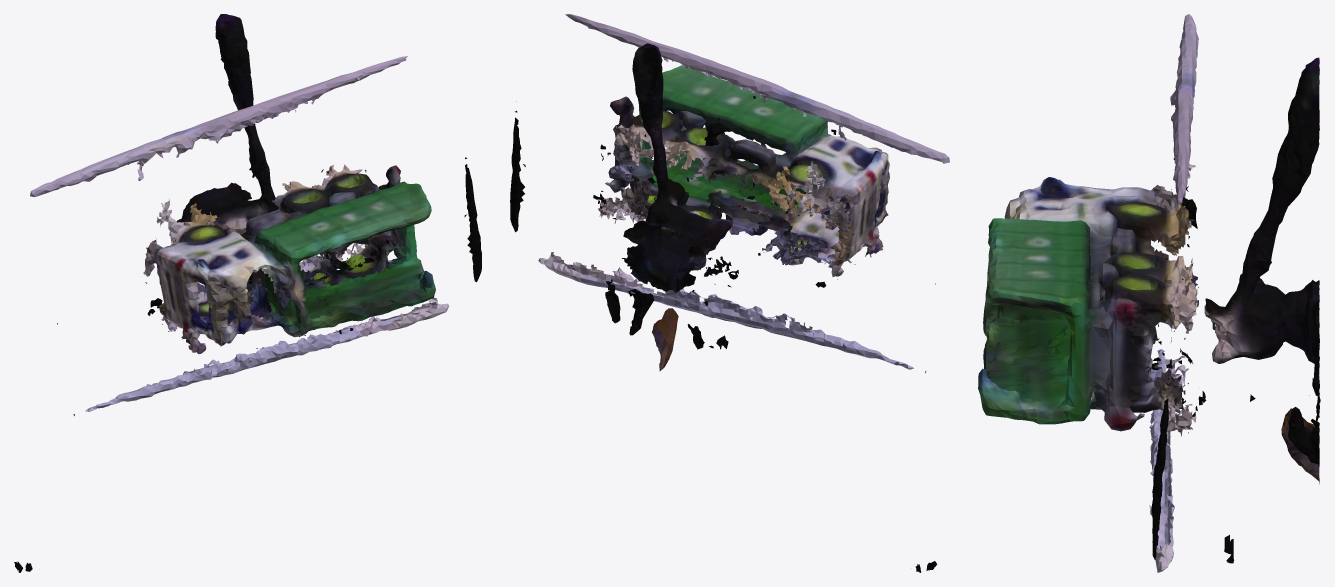
The model's file is garbagetruck.obj.
3 renders of one model, left to right at view 1: azimuth 30°, elevation 25°; view 2: azimuth 150°, elevation 25°; view 3: azimuth 270°, elevation 25°, orthographic. The views are drawn at different scales.
Size of the model in its own units: 18.62 by 19.32 by 9.16.
Materials: 1 (1 with a texture image).
